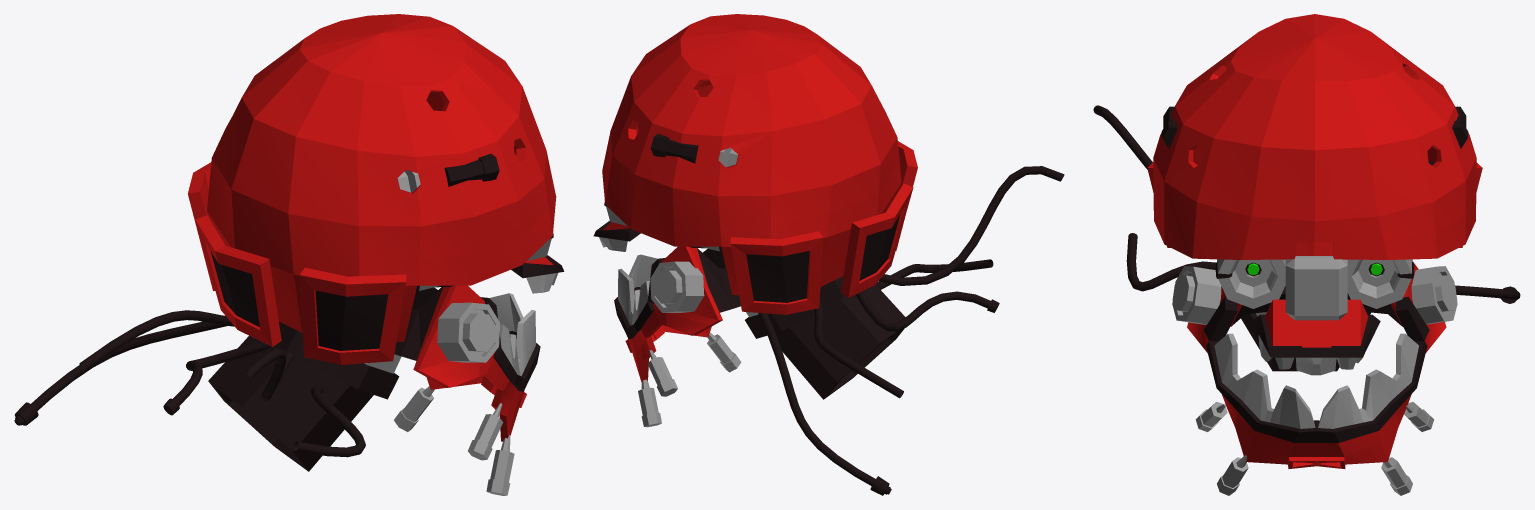
Rendered from Red.fbx.
3 views of the same model, side by side, from view 1: azimuth 30°, elevation 25°; view 2: azimuth 150°, elevation 25°; view 3: azimuth 270°, elevation 25° (orthographic). The views are drawn at different scales.
Parts seen in each view (by area): view 1: Red; view 2: Red; view 3: Red.
Boxes of the visible parts, x1,y1,x2,y2 form: Red: (14,14,564,495); Red: (593,14,1064,495); Red: (1093,14,1520,495).
Bounding box in the file's own units: 893 × 902 × 827.
